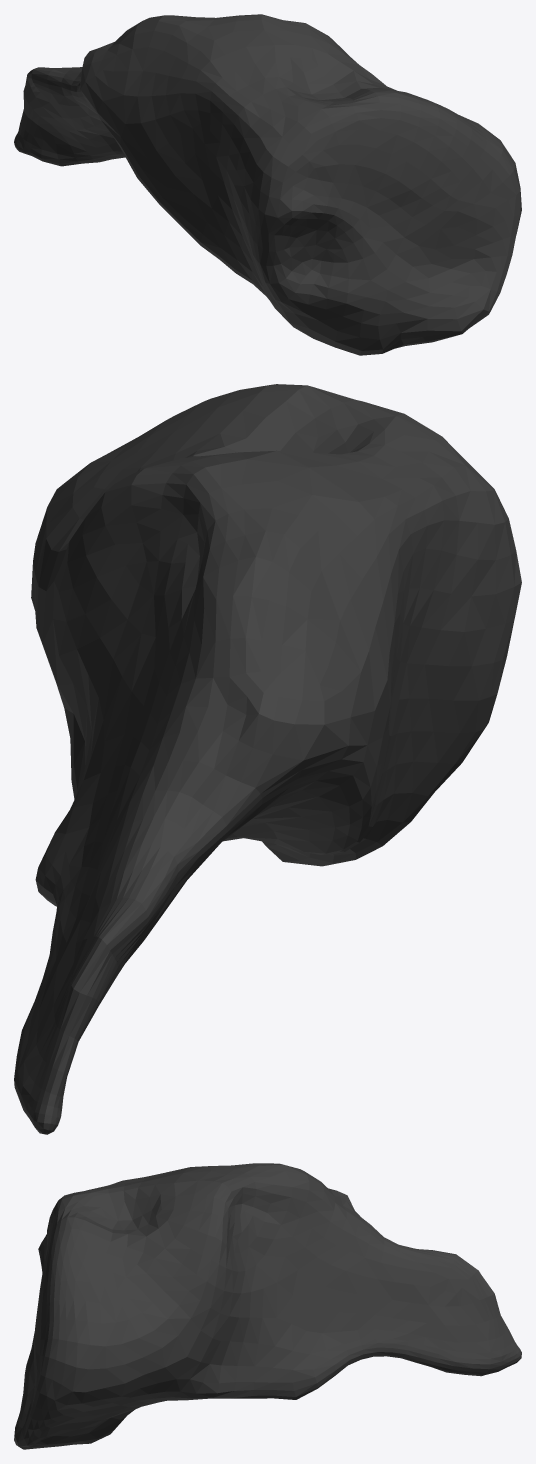
File: Metatarsus_modified2_L.glb
The picture shows the model from 3 angles, top to bottom: view 1: azimuth 30°, elevation 25°; view 2: azimuth 150°, elevation 25°; view 3: azimuth 270°, elevation 25°; orthographic projection. The views are drawn at different scales.
Parts seen in each view (by area): view 1: Metatarsus_modified2_L; view 2: Metatarsus_modified2_L; view 3: Metatarsus_modified2_L.
Part boxes in pixels (box(x1,y1,x2,y2)): Metatarsus_modified2_L: box(14, 14, 521, 355); Metatarsus_modified2_L: box(14, 384, 521, 1134); Metatarsus_modified2_L: box(14, 1163, 521, 1449).
Bounding box in the file's own units: 0.0102 × 0.00937 × 0.0174.
Materials: 1 (1 with a texture image).
